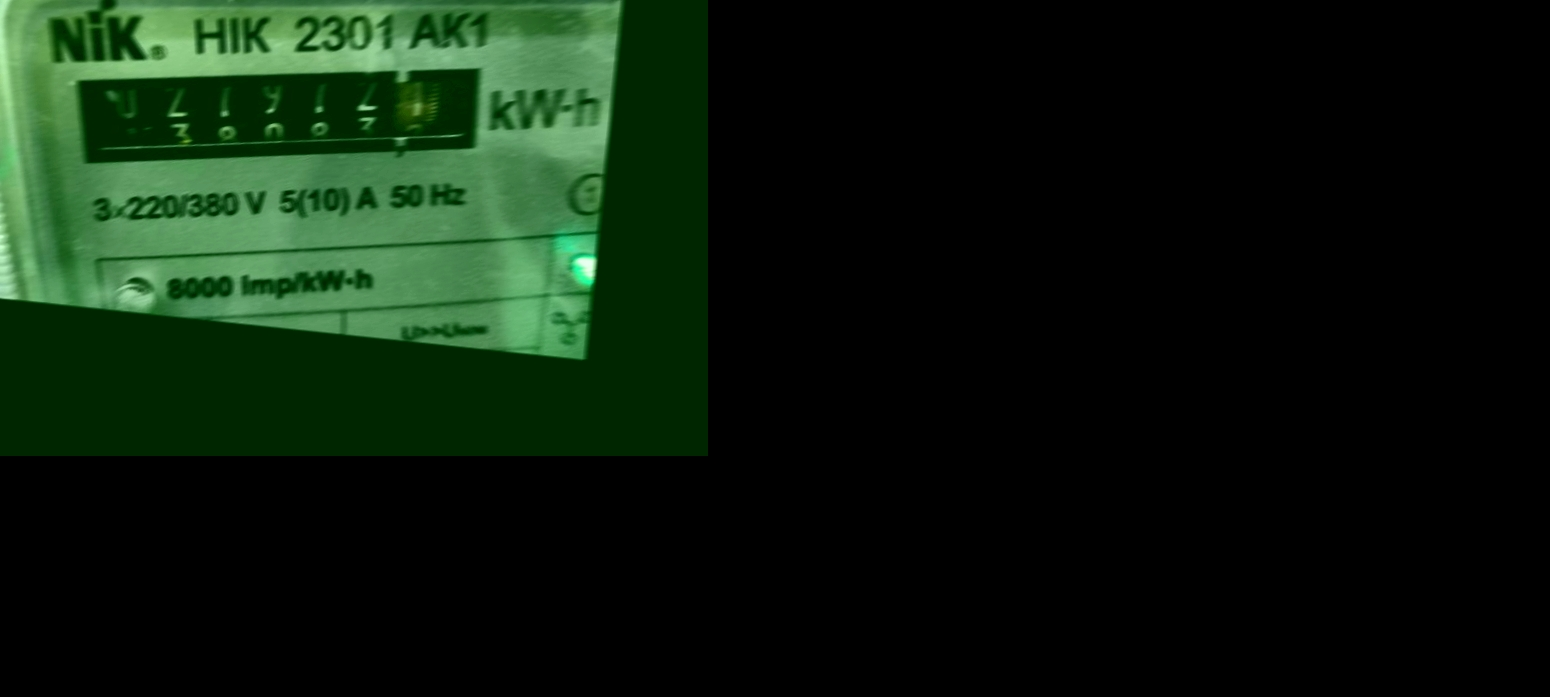0: (110, 81, 142, 120)
1: (405, 75, 431, 120)
2: (159, 78, 192, 119), (351, 74, 383, 113)
7: (303, 74, 333, 117), (210, 80, 236, 119)
9: (257, 78, 287, 115)
screen: (50, 15, 516, 216)
